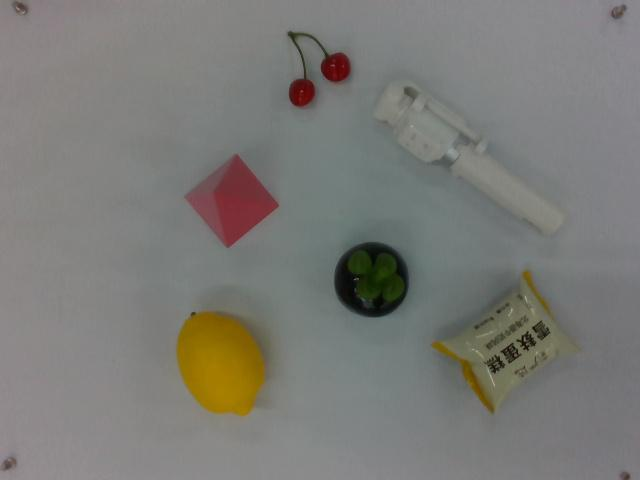cherry: (280, 25, 353, 108)
dessert: (438, 271, 574, 415)
lemon: (172, 305, 270, 419)
mangosteen: (333, 239, 411, 318)
pyramid: (183, 153, 278, 247)
selfiestick: (374, 74, 569, 239)
